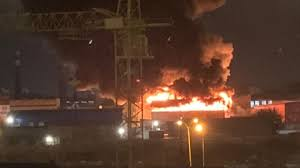fire: (138, 65, 272, 124)
